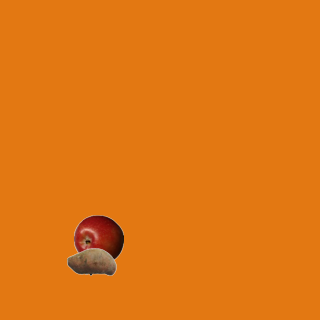Apple Braeburn: (73, 214, 123, 264)
Potato Sweet: (66, 236, 116, 286)
